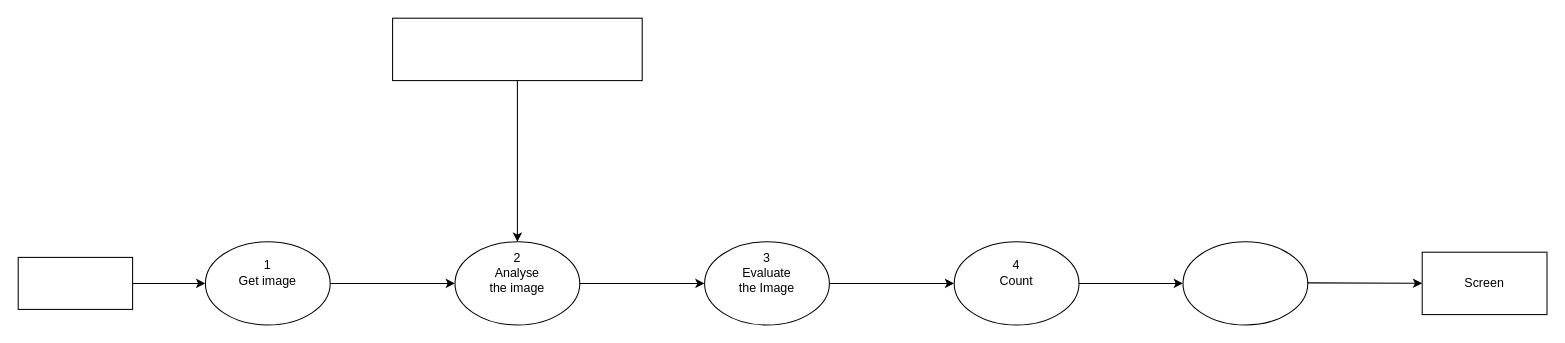
Image size: 1565x343. Some labels were removed from this diagram. The shapes that lost their labels are listed below. From the top down, each one's centre as x and y in pixels, then its label:
point (517, 49): Calvin car recognition Modell
point (75, 282): Kamera
point (1245, 283): 5 actualyse it on the UI
